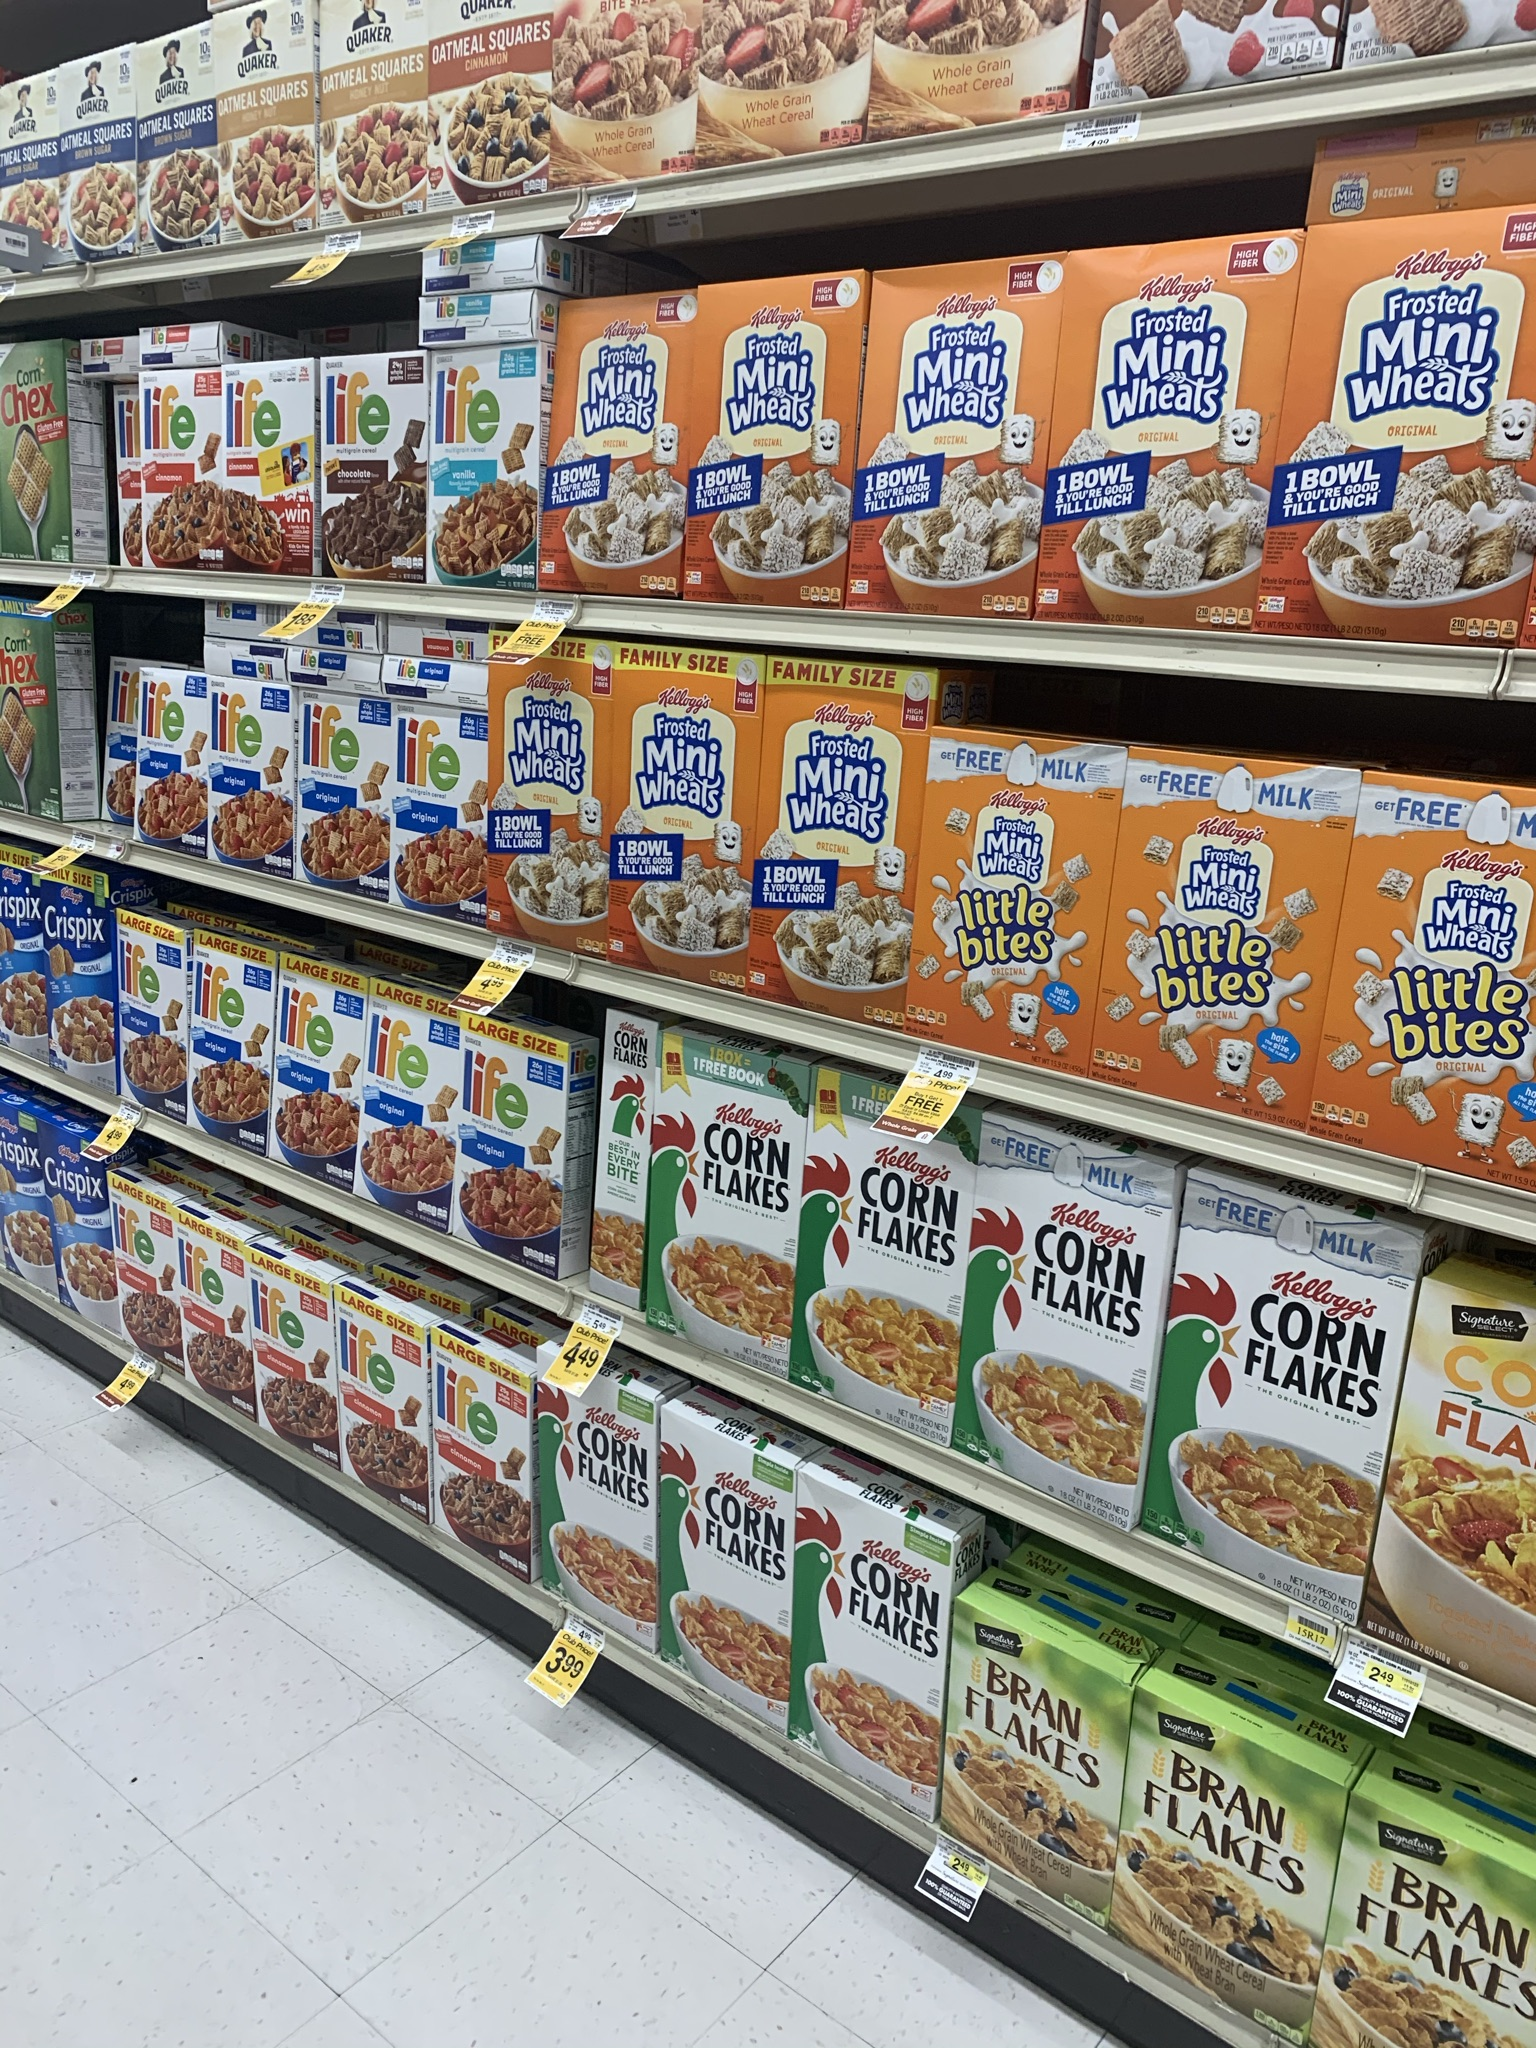cereal: (1279, 206, 1536, 643), (1165, 1200, 1391, 1606), (1320, 747, 1536, 1150), (1108, 731, 1313, 1138), (1112, 1666, 1325, 2037), (1063, 239, 1254, 626), (976, 1106, 1142, 1540), (937, 1585, 1125, 1953), (749, 648, 925, 1034), (912, 718, 1104, 1068), (863, 269, 1042, 618), (799, 1066, 962, 1440), (608, 642, 762, 985), (650, 1019, 791, 1387), (694, 287, 839, 601), (792, 1509, 965, 1772), (490, 626, 600, 966), (662, 1447, 810, 1693), (532, 1400, 676, 1651), (410, 1326, 536, 1601), (424, 348, 542, 601), (323, 360, 429, 577), (332, 1284, 428, 1526), (236, 1250, 342, 1466), (363, 977, 457, 1221), (395, 700, 494, 926), (453, 1042, 563, 1240), (271, 955, 365, 1177), (290, 689, 390, 897), (195, 935, 281, 1153), (224, 366, 316, 566), (132, 374, 224, 569), (168, 1209, 250, 1421), (105, 906, 186, 1119), (102, 1171, 184, 1374), (2, 348, 71, 560), (137, 672, 210, 871), (211, 687, 290, 868), (2, 598, 47, 821)
